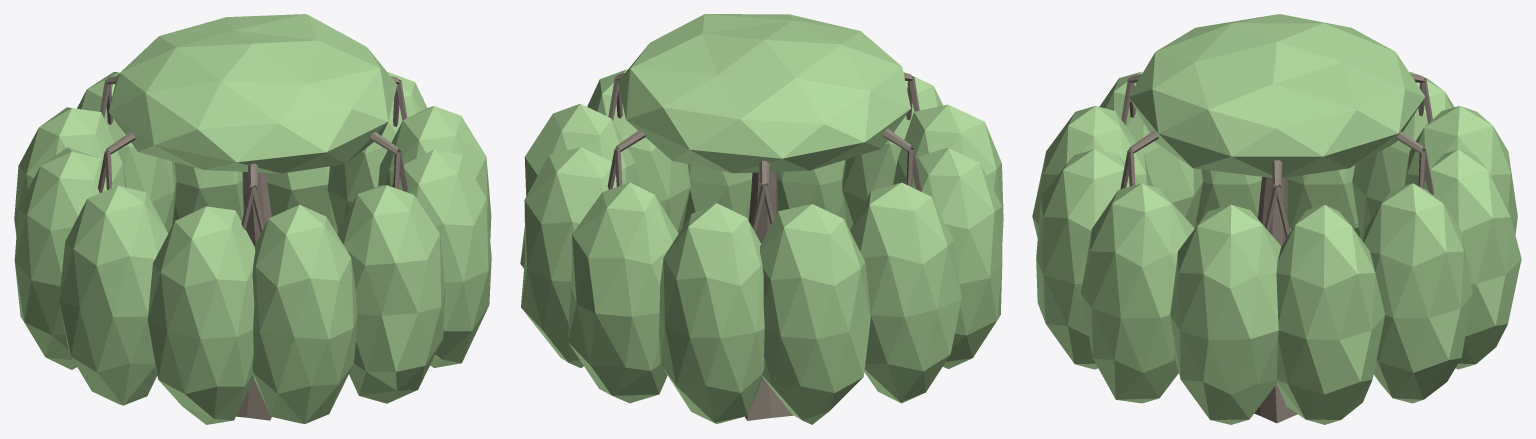
The model's file is tree_willow.glb.
The picture shows the model from 3 angles, left to right: view 1: azimuth 30°, elevation 25°; view 2: azimuth 150°, elevation 25°; view 3: azimuth 270°, elevation 25°; orthographic projection.
Visible parts, largest first — view 1: tree_willow; view 2: tree_willow; view 3: tree_willow.
Part boxes in pixels (<box>): tree_willow: <box>14,14,491,424</box>; tree_willow: <box>520,14,1003,424</box>; tree_willow: <box>1032,14,1521,424</box>.
Size of the model in its own units: 7.18 by 6 by 7.25.
